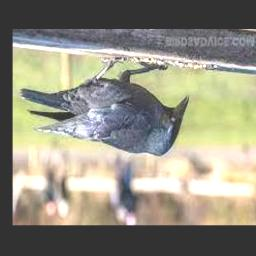Crow: (19, 57, 189, 157)
